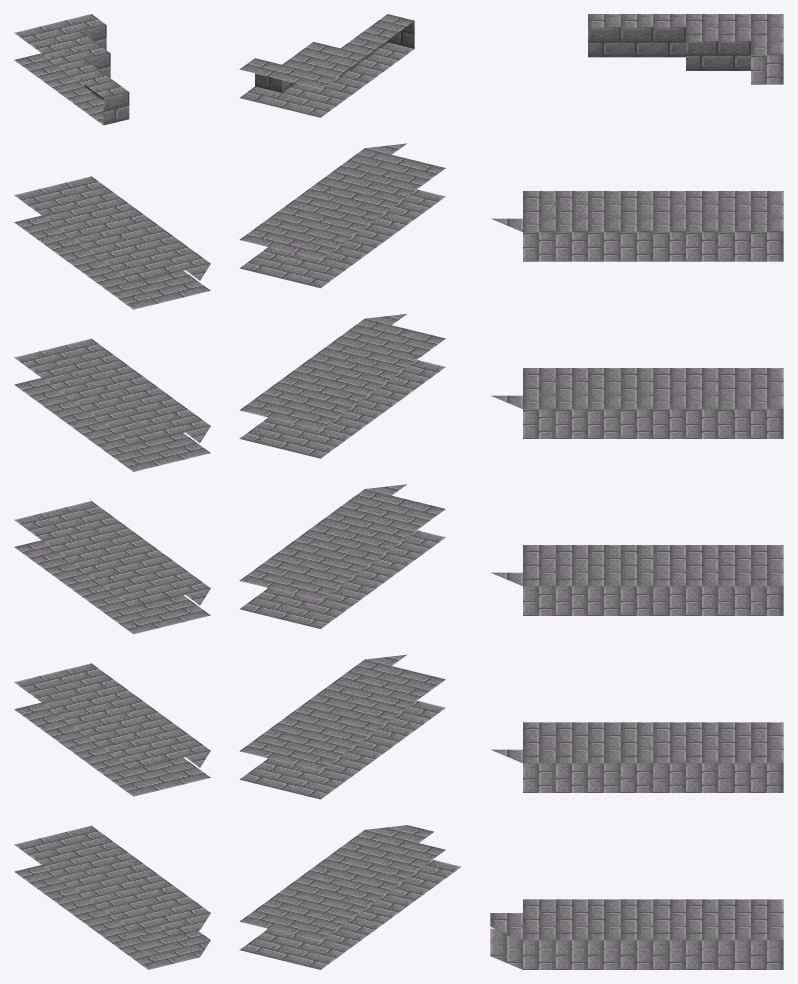
The model's file is Stone_Bricks_Chunk_7_20.fbx.
3 renders of one model, left to right at view 1: azimuth 30°, elevation 25°; view 2: azimuth 150°, elevation 25°; view 3: azimuth 270°, elevation 25°, orthographic. The views are drawn at different scales.
Parts seen in each view (by area): view 1: Stone_Bricks_Chunk_7_20; view 2: Stone_Bricks_Chunk_7_20; view 3: Stone_Bricks_Chunk_7_20.
Boxes of the visible parts, x1,y1,x2,y2 form: Stone_Bricks_Chunk_7_20: [14, 14, 210, 969]; Stone_Bricks_Chunk_7_20: [239, 14, 461, 969]; Stone_Bricks_Chunk_7_20: [490, 14, 783, 969].
Bounding box in the file's own units: 300 × 3100 × 900.
1 material, 1 textured.
